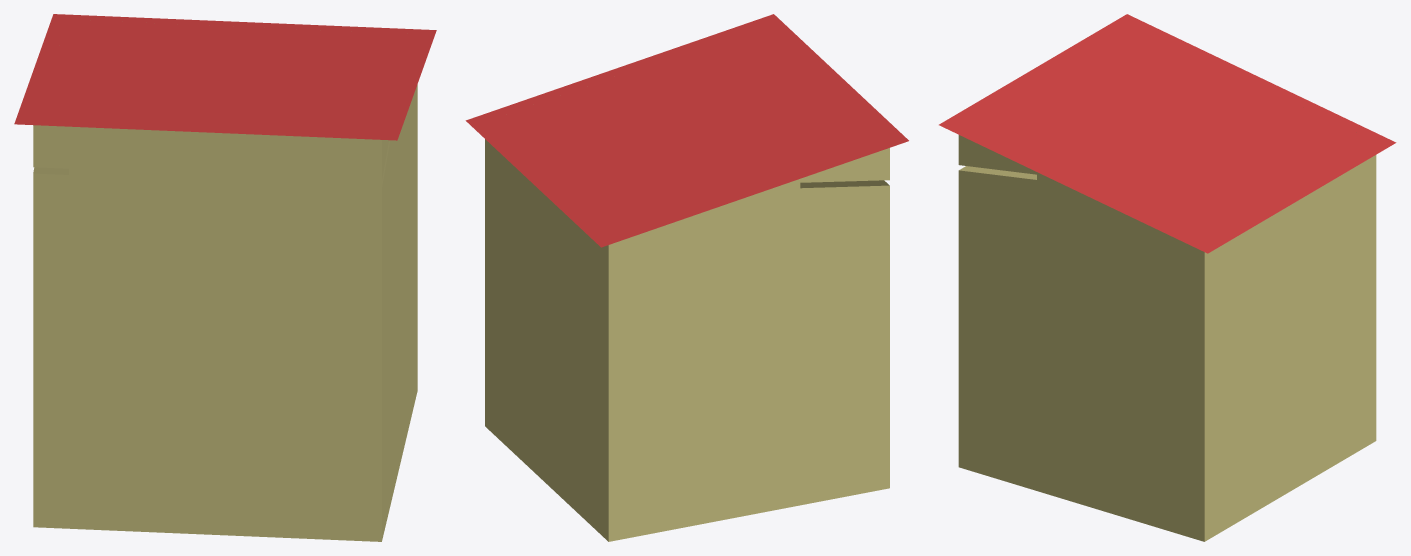
3 views of the same model, side by side, from view 1: azimuth 30°, elevation 25°; view 2: azimuth 150°, elevation 25°; view 3: azimuth 270°, elevation 25° (orthographic). The views are drawn at different scales.
Size of the model in its own units: 7.81 by 7.84 by 6.49.
